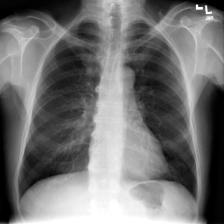normal: (13, 12, 202, 215)
